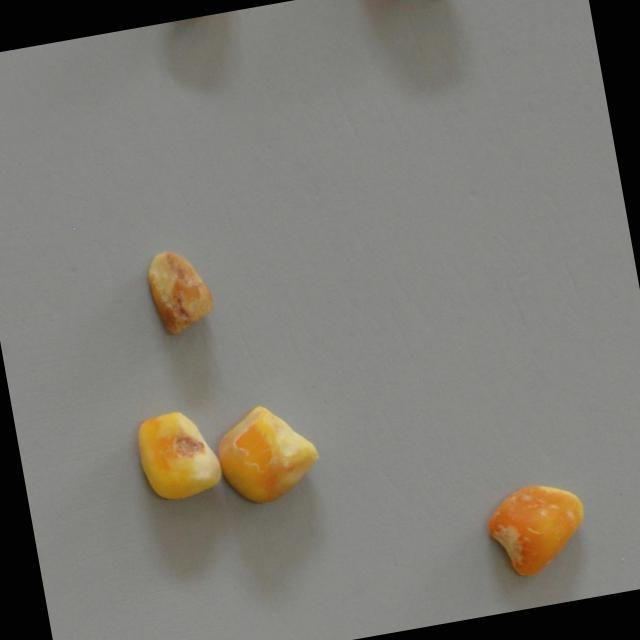dañado: (119, 389, 246, 519), (112, 231, 239, 361), (478, 460, 604, 590), (204, 387, 330, 517), (152, 6, 261, 38), (353, 0, 476, 27)
